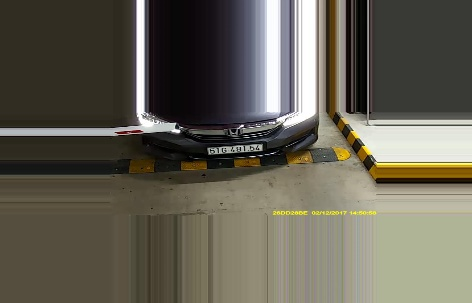plate: (205, 143, 266, 153)
